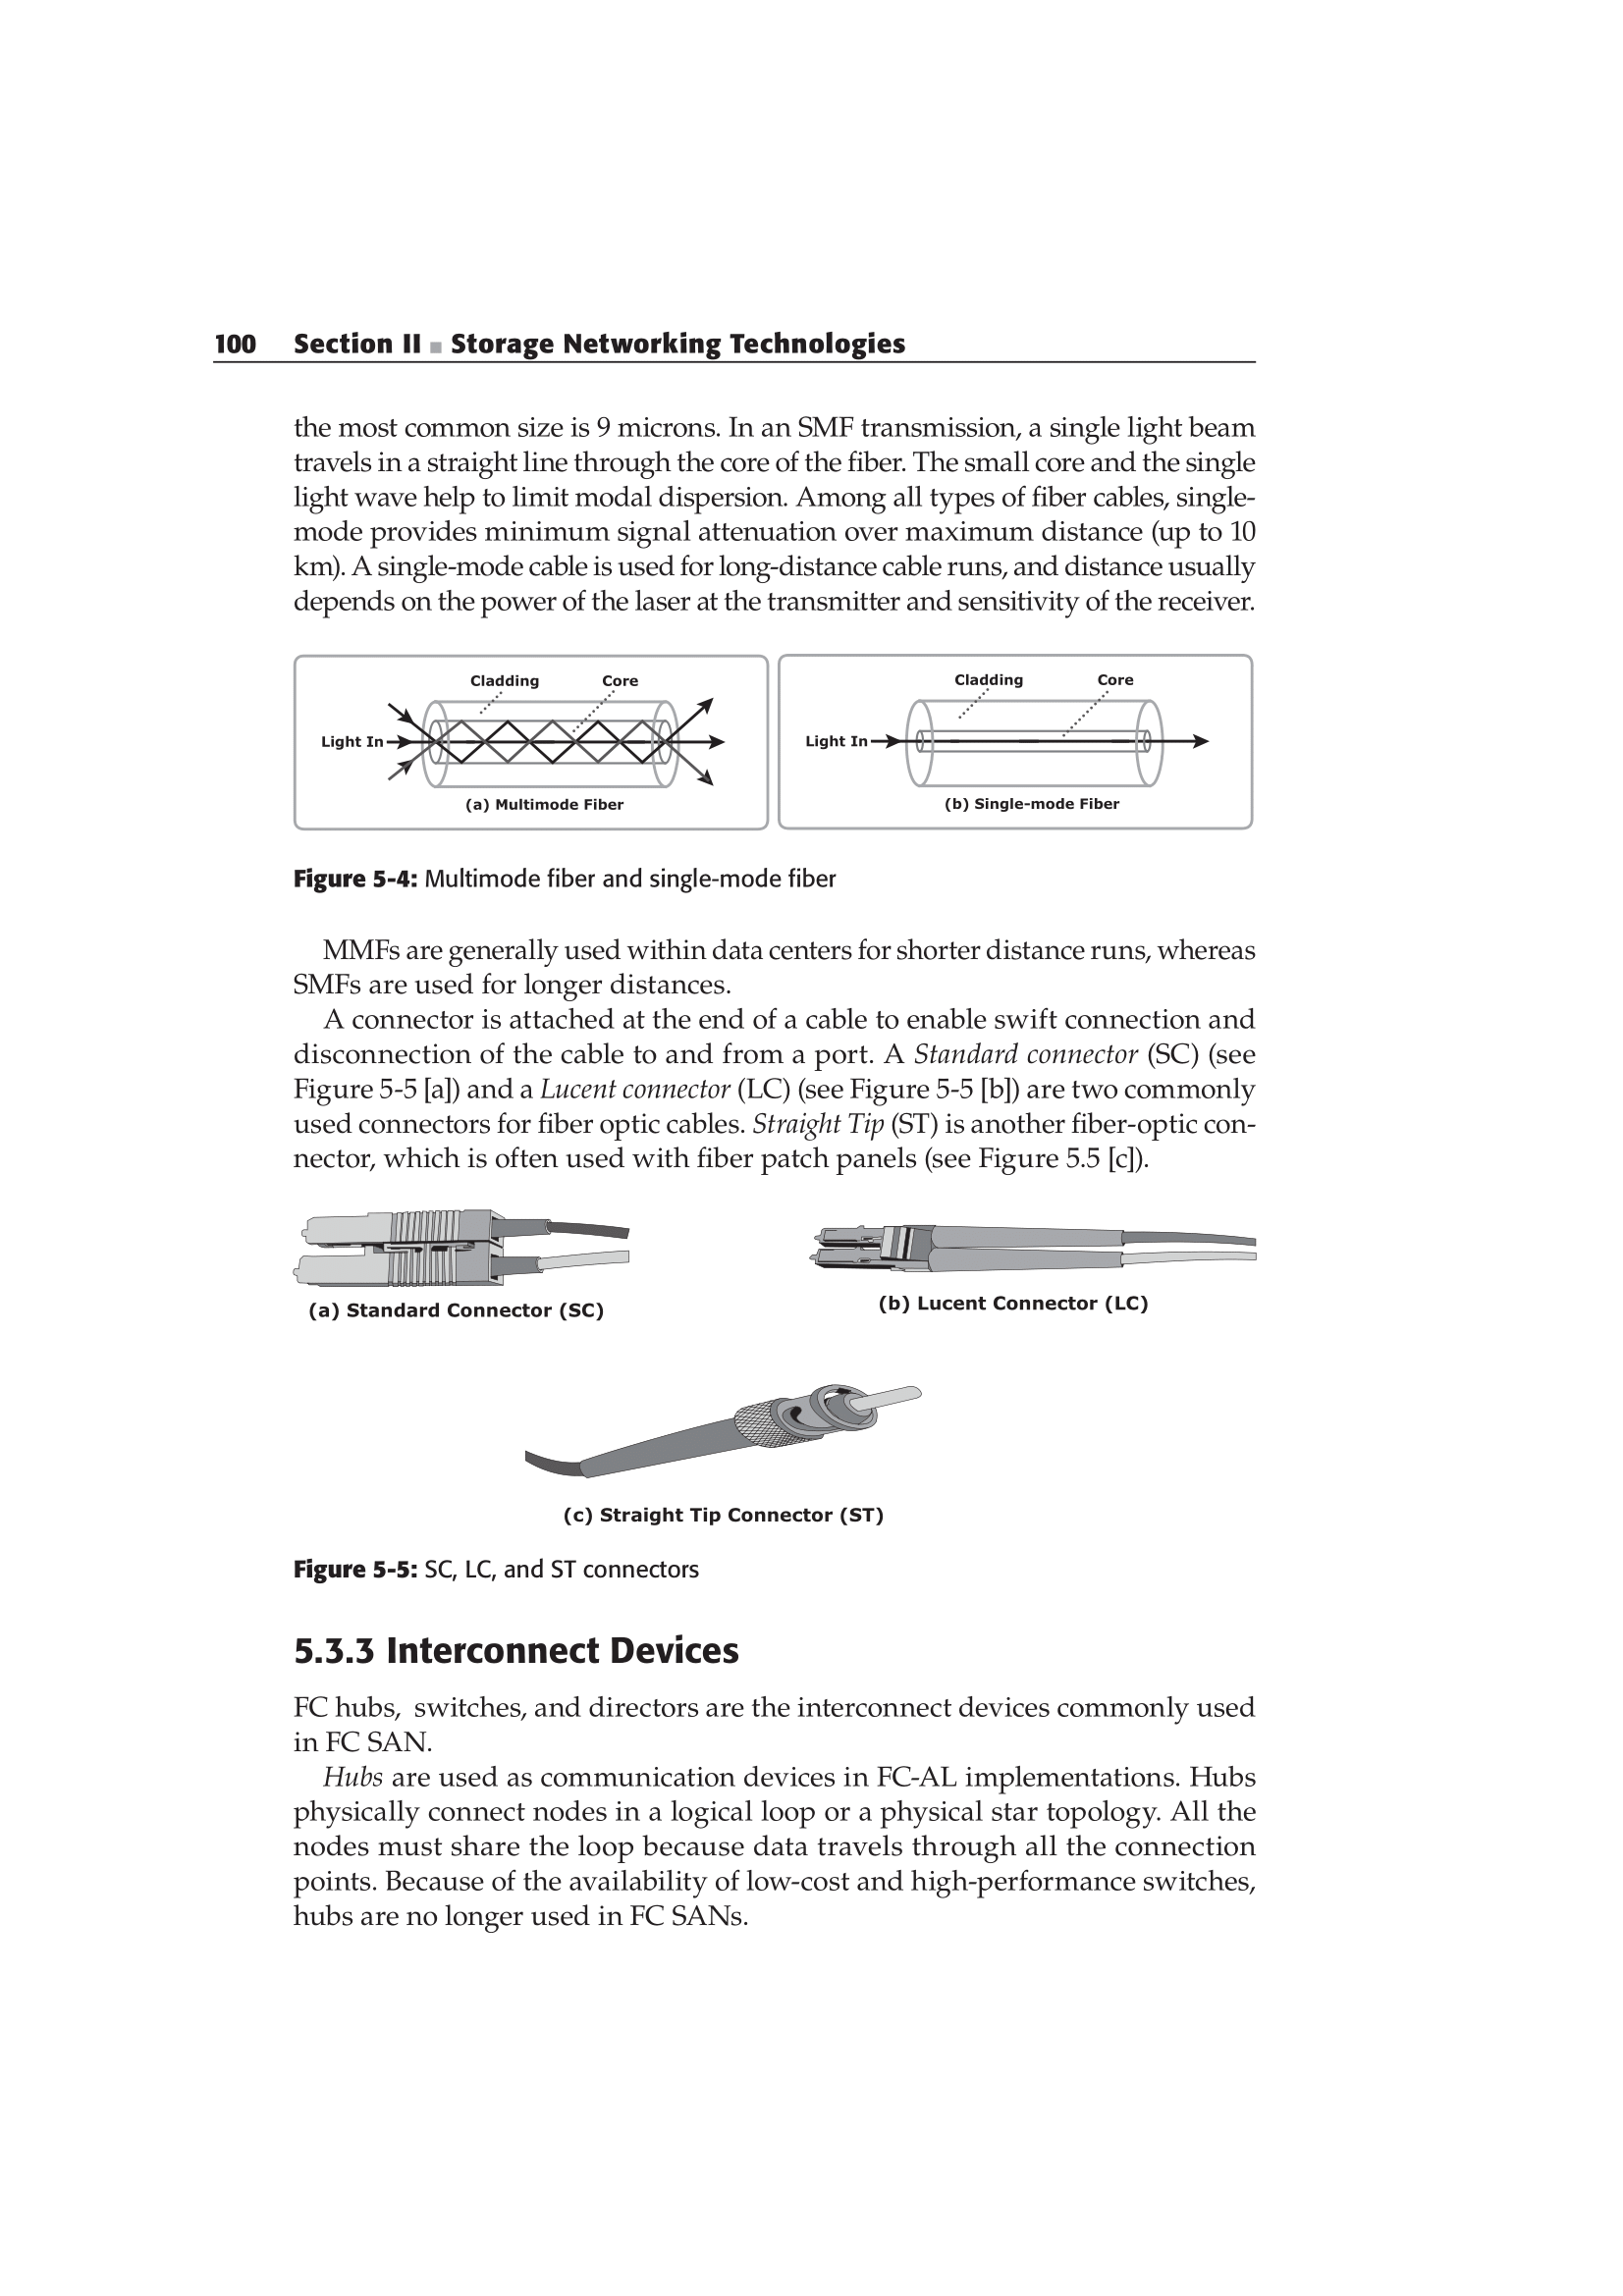Image: (269, 644, 1242, 830), (525, 1360, 931, 1529), (794, 1183, 1273, 1324), (256, 1187, 676, 1324)
Paragraph: (246, 397, 1256, 616), (283, 995, 1270, 1183), (288, 1762, 1259, 1922), (288, 922, 1279, 995), (279, 1689, 1265, 1754), (174, 283, 940, 365), (251, 1525, 745, 1597), (279, 1629, 745, 1680), (288, 867, 840, 904)
